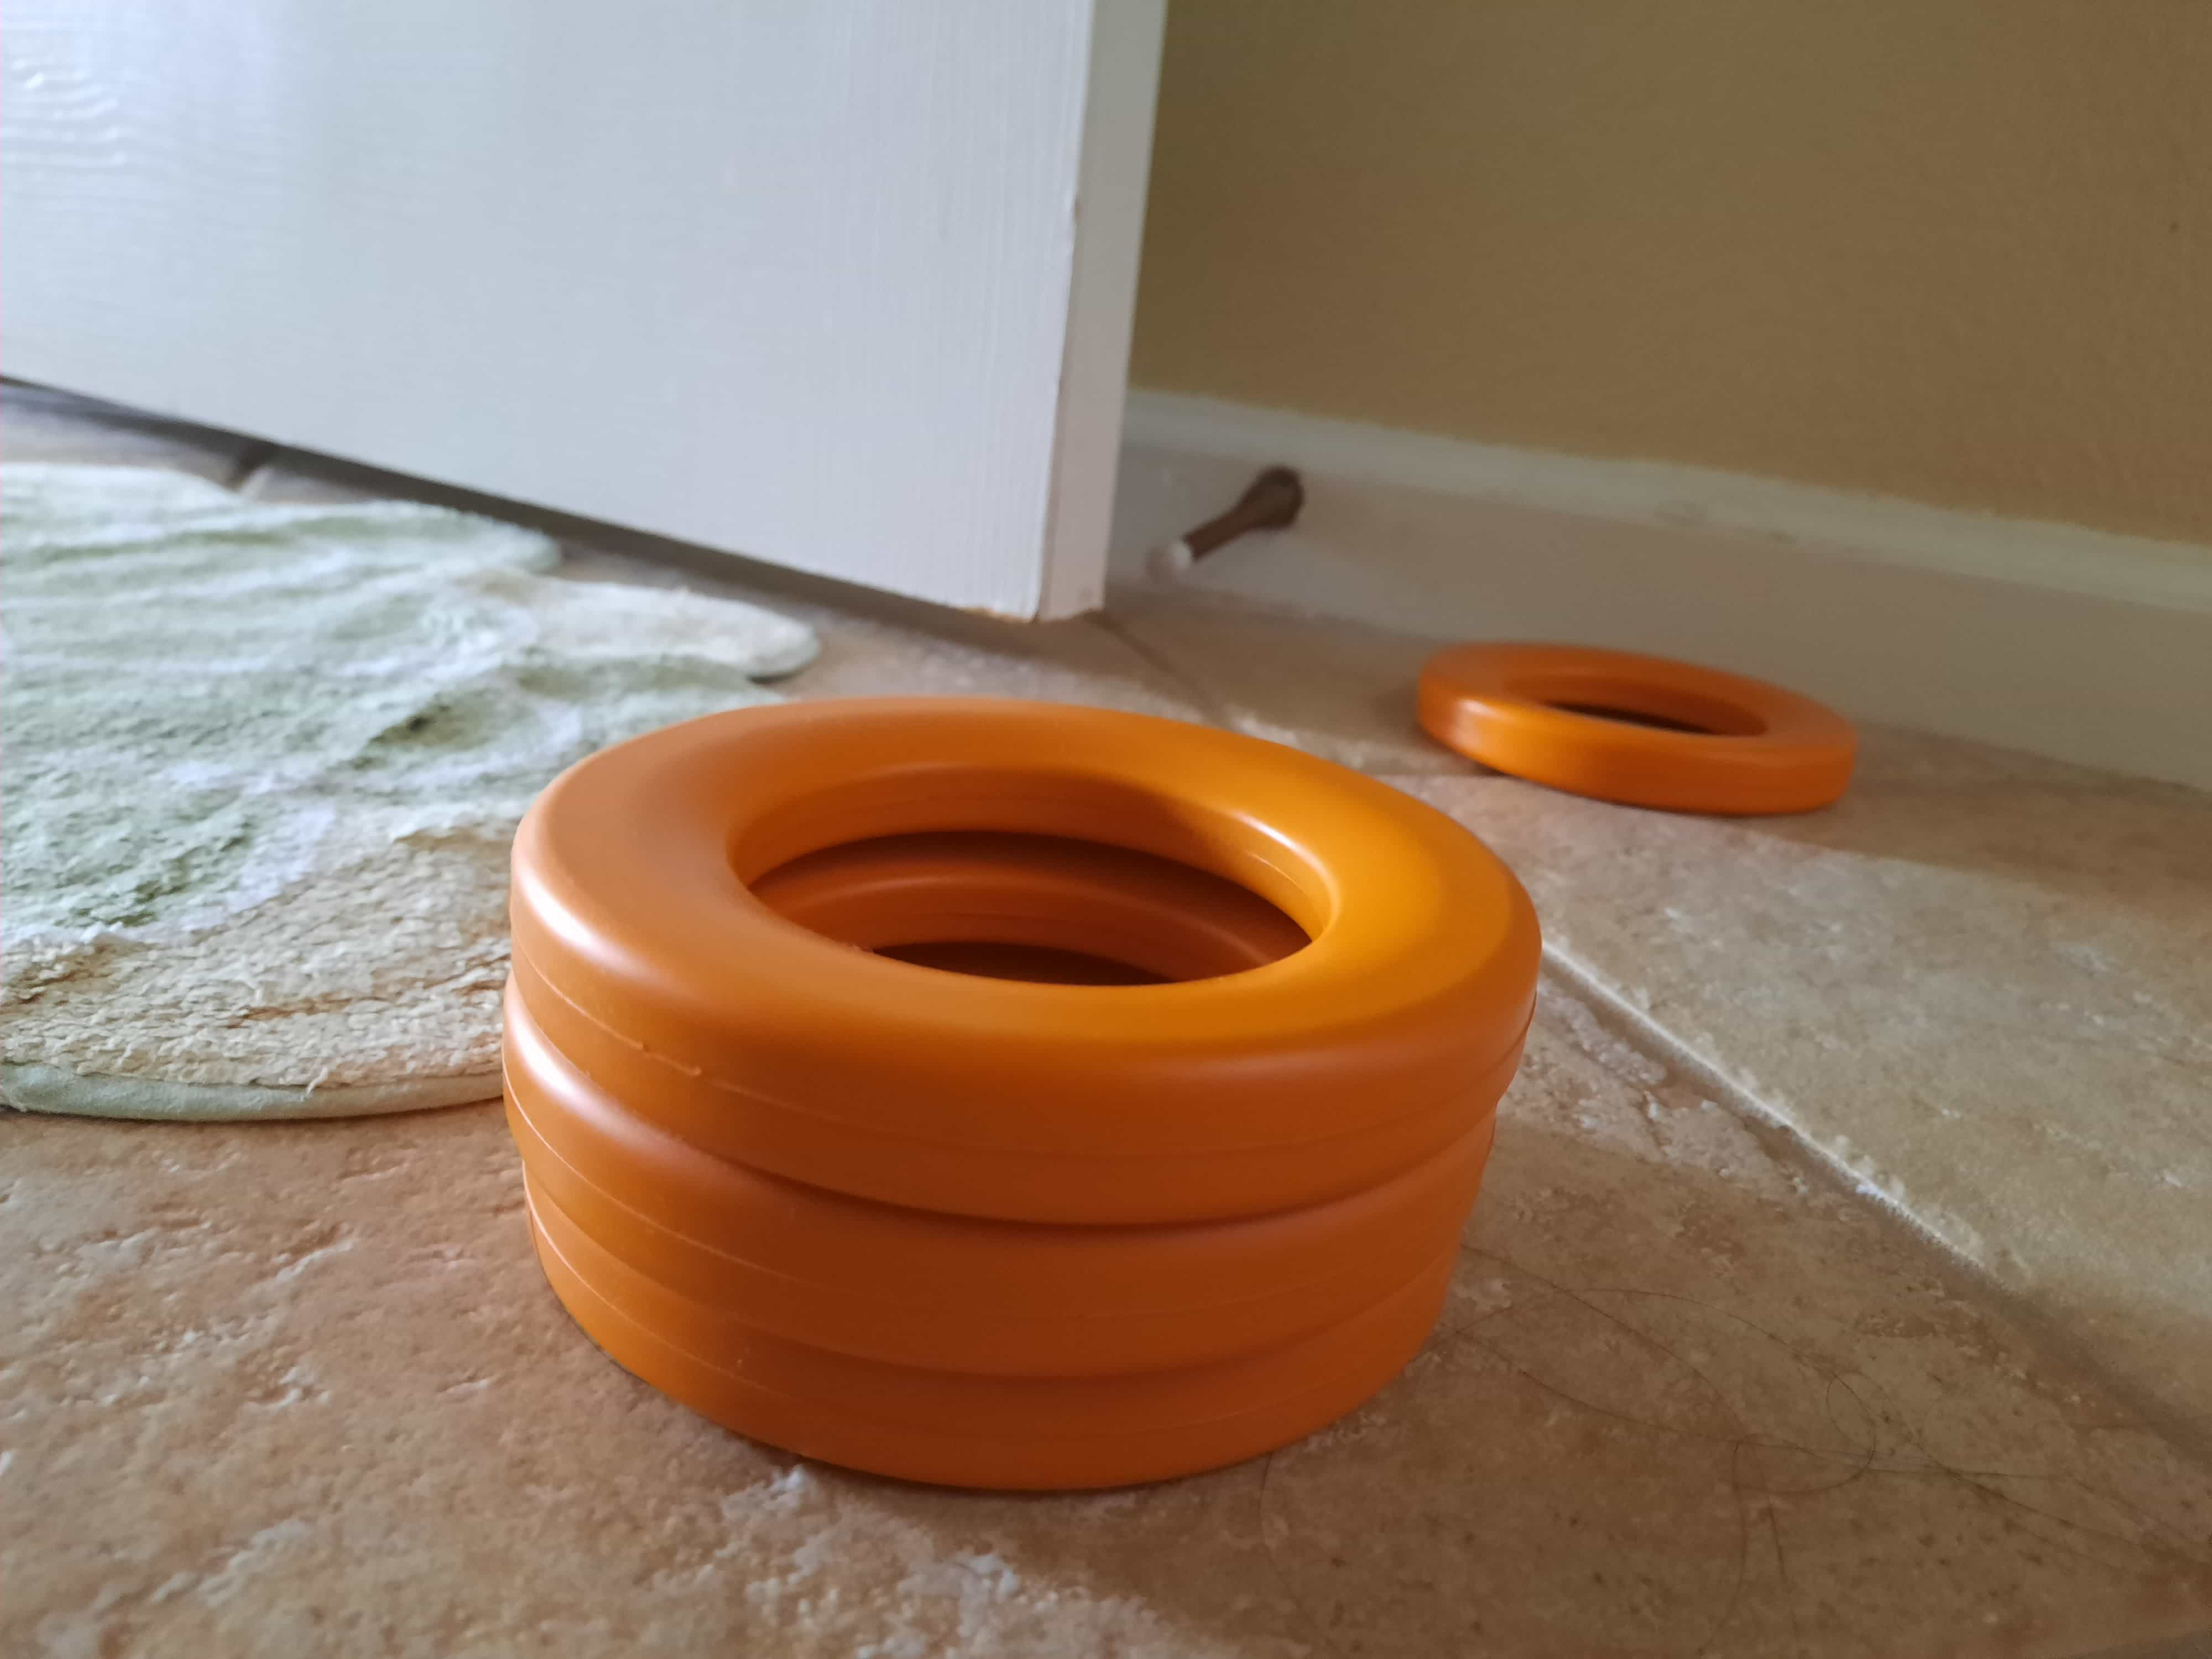FourStack: (498, 704, 1533, 1499)
OneStack: (1435, 636, 1857, 828)
